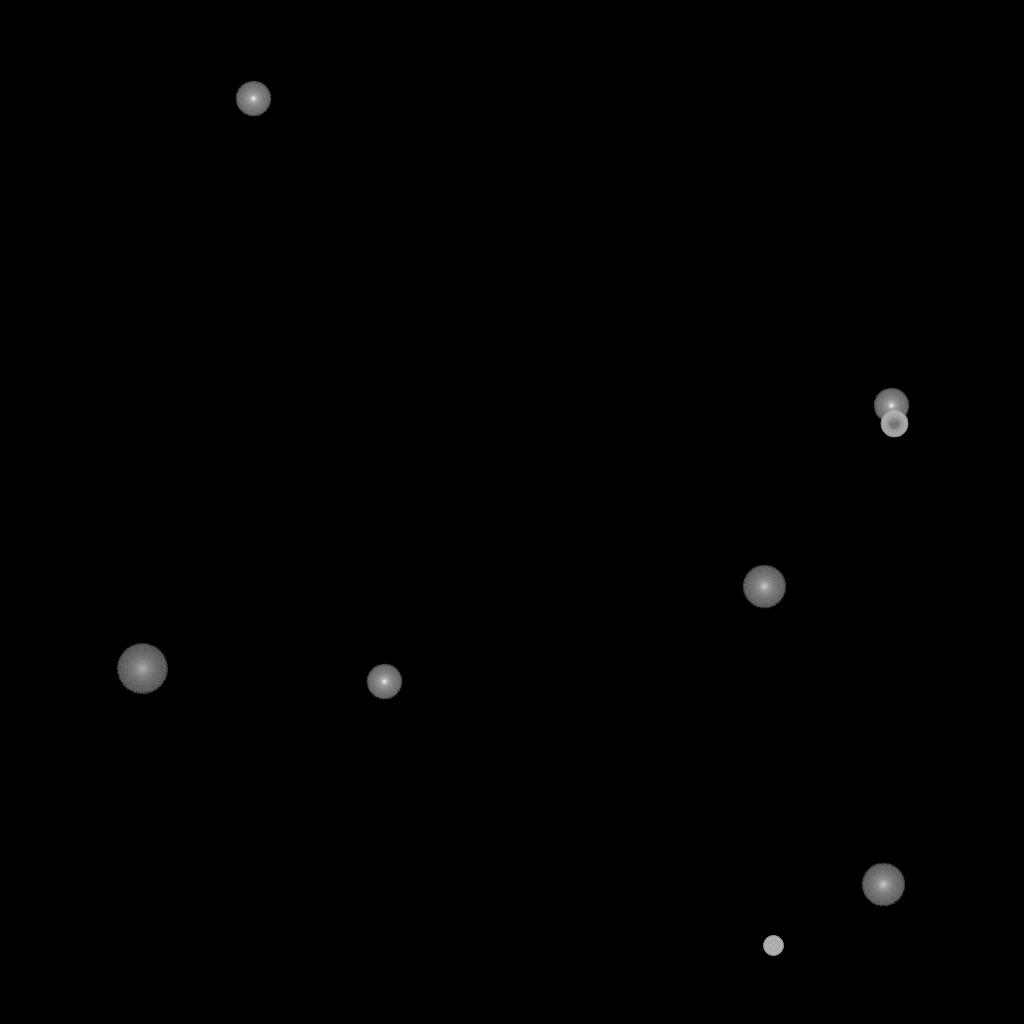depth:-40: (763, 936, 783, 956)
depth:-50: (880, 410, 908, 438)
depth:0: (873, 388, 909, 424), (366, 664, 402, 700), (235, 81, 271, 117)
depth:10: (742, 565, 786, 609), (861, 863, 905, 907)
depth:20: (116, 644, 168, 694)
